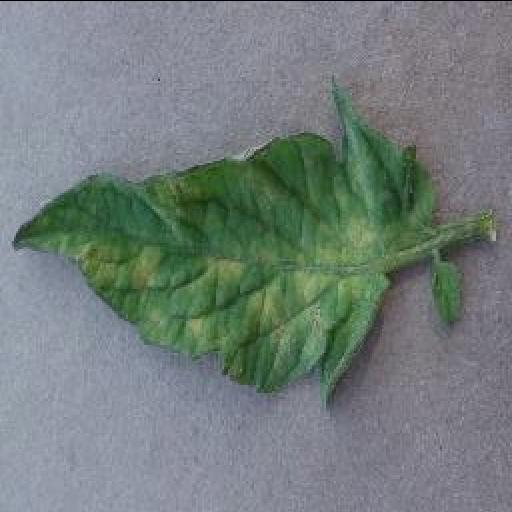disease_tomato: (10, 73, 440, 405)
